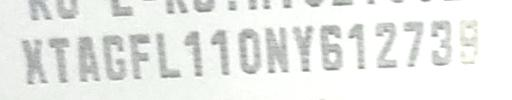letter: (370, 19, 400, 71), (262, 22, 292, 74), (153, 28, 183, 80), (235, 23, 263, 77), (456, 16, 484, 68), (19, 37, 49, 85), (100, 32, 128, 83), (75, 33, 103, 83), (46, 35, 74, 85), (289, 21, 315, 73), (208, 26, 234, 78), (428, 17, 454, 68), (318, 23, 344, 73), (126, 30, 152, 80), (401, 19, 425, 72), (344, 20, 368, 71), (182, 26, 206, 76)
